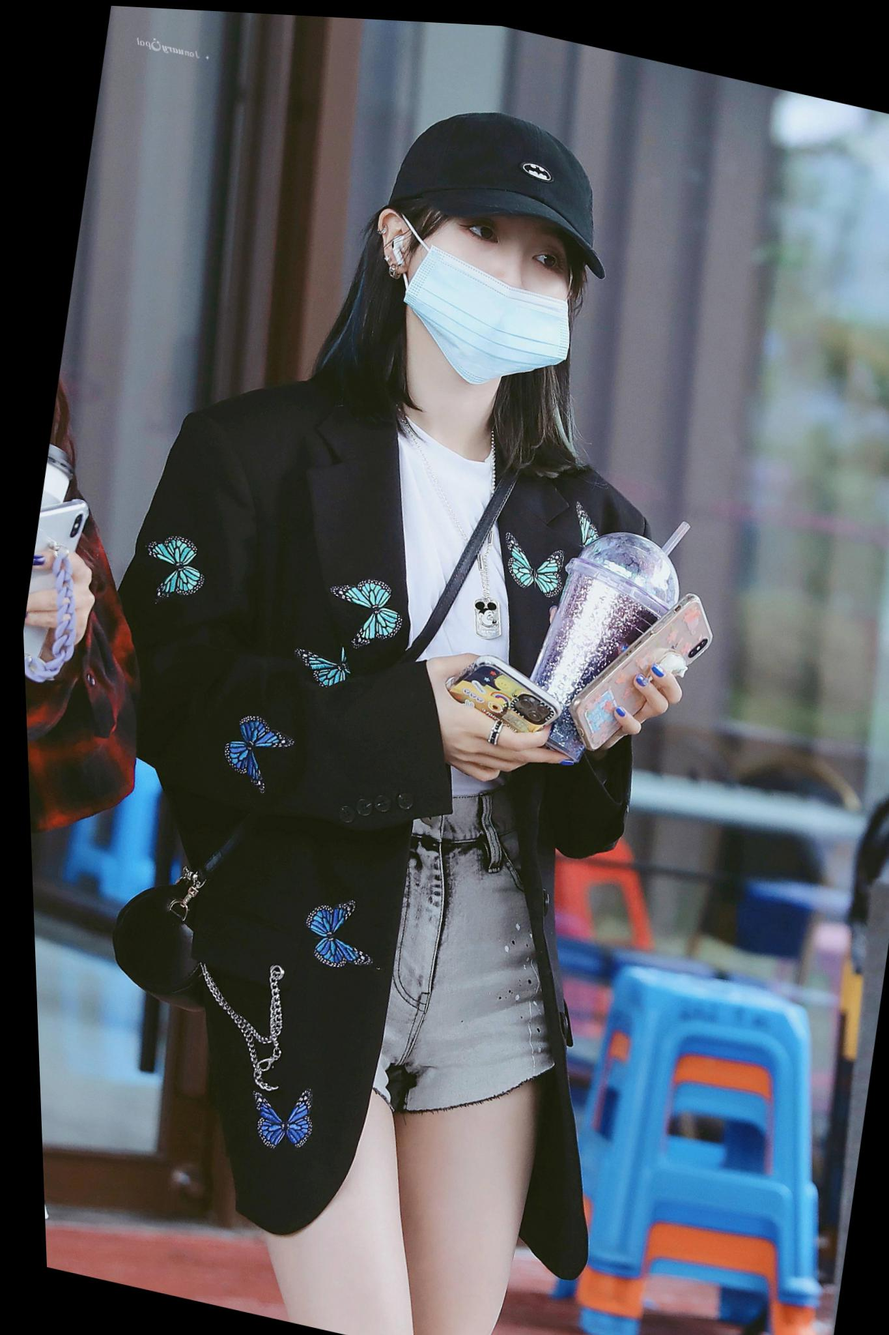WRONG: (401, 169, 591, 398)
